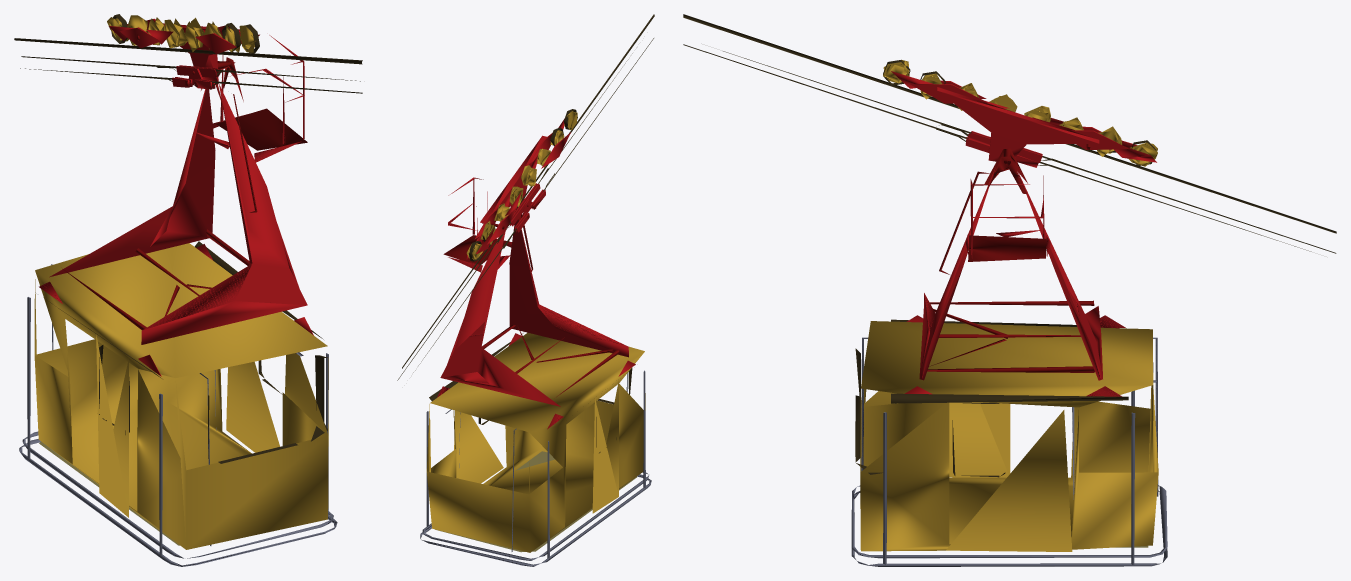
Rendered from cap-treo.glb.
3 views of the same model, side by side, from view 1: azimuth 30°, elevation 25°; view 2: azimuth 150°, elevation 25°; view 3: azimuth 270°, elevation 25° (orthographic). The views are drawn at different scales.
Visible parts, largest first — view 1: Cabin_0, Legs_2, Doors_15, Handle (outside)_10, Stand_3, Wheels_8, Head_11, Rope base_13, Sticks_9, Ropes (ins)_14, Insurance_12, mainstay_6 (+1 smaller); view 2: Cabin_0, Legs_2, Doors_15, Handle (outside)_10, Head_11, Wheels_8, Stand_3, Ropes (ins)_14, Sticks_9, Insurance_12, Rope base_13; view 3: Cabin_0, Doors_15, Head_11, Legs_2, Handle (outside)_10, Stand_3, Wheels_8, Sticks_9, Door holders_1, Ropes (ins)_14, Rope base_13, Handle_5.
Boxes of the visible parts, bbox=[...] form: Cabin_0: bbox=[34, 243, 328, 549]; Legs_2: bbox=[49, 84, 307, 344]; Doors_15: bbox=[96, 335, 282, 517]; Handle (outside)_10: bbox=[19, 297, 337, 566]; Stand_3: bbox=[212, 35, 307, 162]; Wheels_8: bbox=[107, 14, 259, 54]; Head_11: bbox=[109, 18, 259, 84]; Rope base_13: bbox=[14, 38, 362, 64]; Sticks_9: bbox=[63, 229, 249, 330]; Ropes (ins)_14: bbox=[20, 56, 362, 93]; Insurance_12: bbox=[172, 65, 219, 89]; mainstay_6: bbox=[39, 244, 313, 376]; Cabin_0: bbox=[426, 332, 645, 552]; Legs_2: bbox=[440, 219, 628, 406]; Doors_15: bbox=[454, 380, 618, 513]; Handle (outside)_10: bbox=[420, 370, 651, 566]; Head_11: bbox=[466, 118, 570, 259]; Wheels_8: bbox=[466, 109, 577, 261]; Stand_3: bbox=[443, 177, 511, 272]; Ropes (ins)_14: bbox=[397, 38, 653, 380]; Sticks_9: bbox=[481, 325, 620, 396]; Insurance_12: bbox=[509, 183, 545, 232]; Rope base_13: bbox=[402, 14, 654, 368]; Cabin_0: bbox=[855, 321, 1158, 551]; Doors_15: bbox=[946, 402, 1072, 551]; Head_11: bbox=[891, 71, 1156, 162]; Legs_2: bbox=[919, 167, 1102, 380]; Handle (outside)_10: bbox=[851, 390, 1167, 566]; Stand_3: bbox=[966, 175, 1050, 261]; Wheels_8: bbox=[883, 59, 1157, 166]; Sticks_9: bbox=[927, 300, 1094, 372]; Door holders_1: bbox=[891, 319, 1128, 403]; Ropes (ins)_14: bbox=[683, 44, 1336, 253]; Rope base_13: bbox=[683, 14, 1336, 233]; Handle_5: bbox=[861, 337, 1158, 499].
Size of the model in its own units: 0.3205 by 0.8781 by 1.
